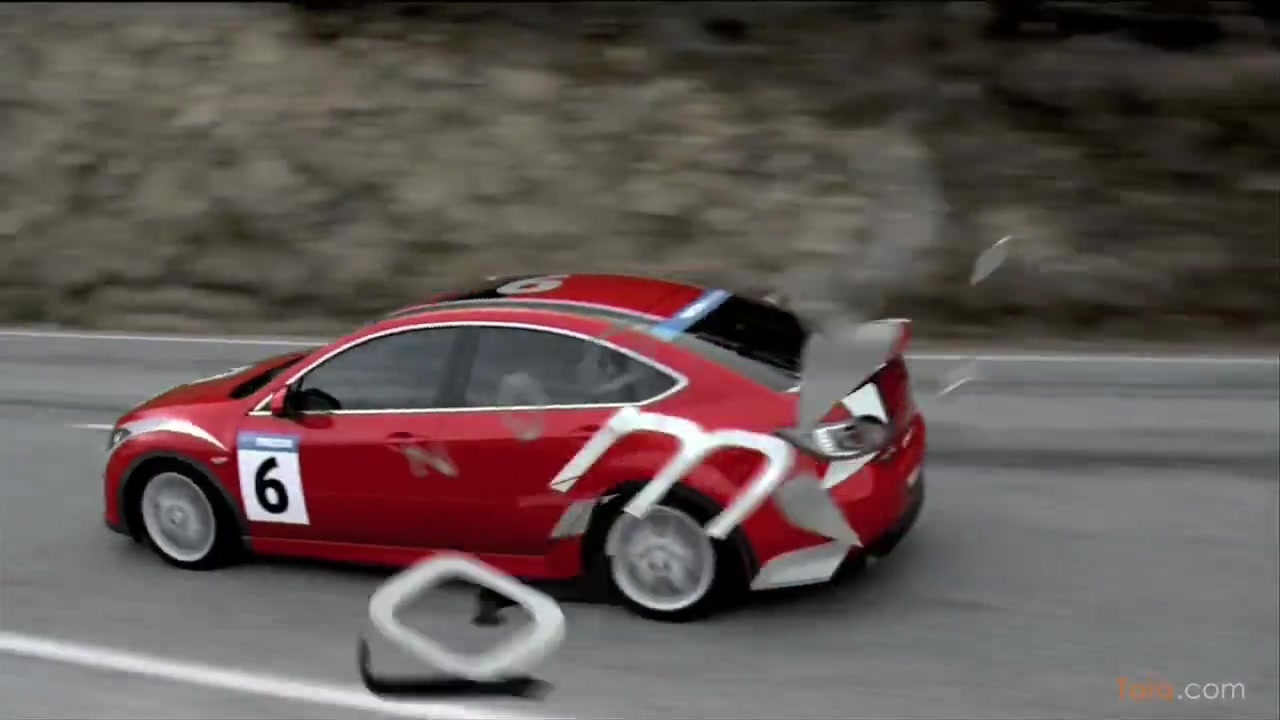car: (99, 269, 932, 612)
